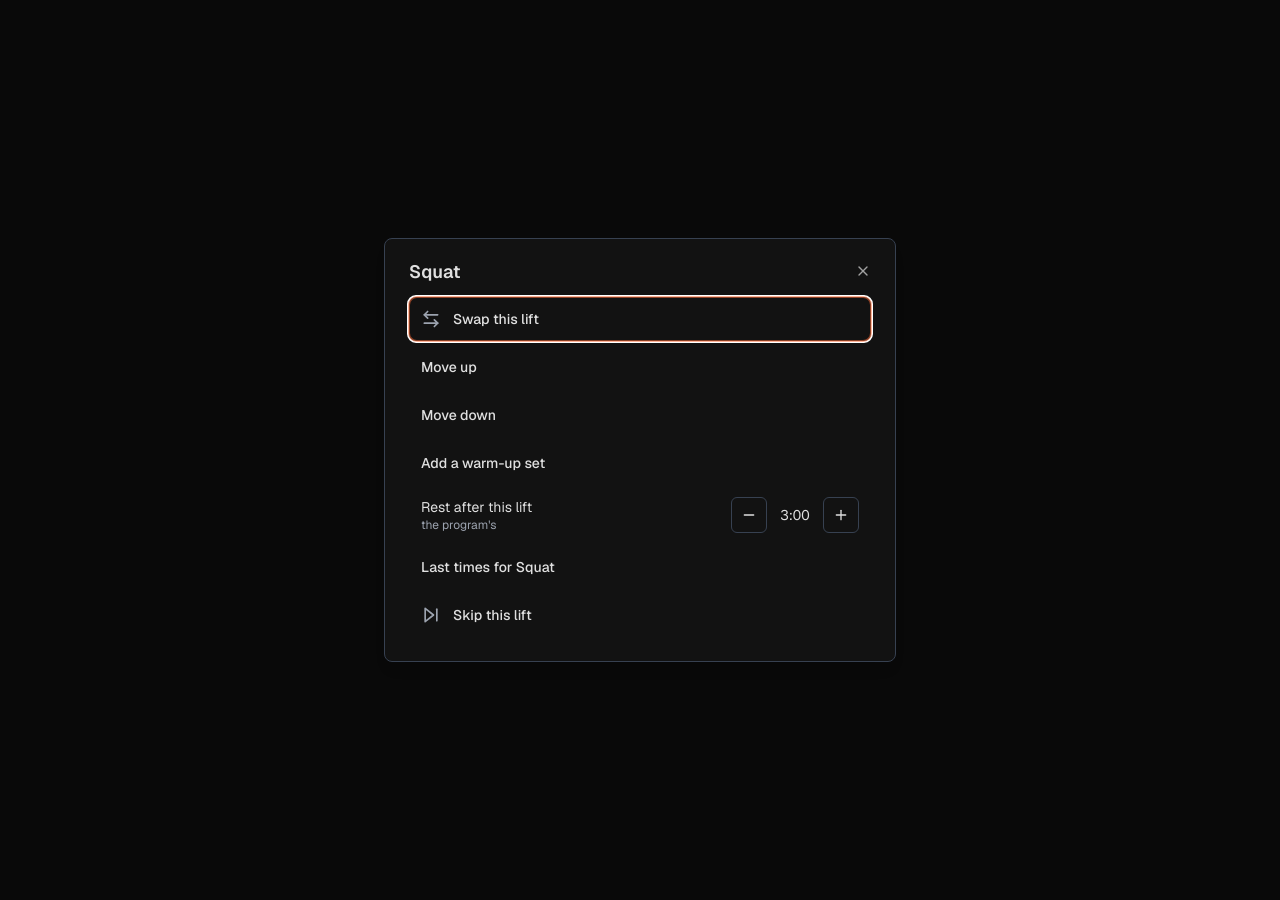
the rest row › two quick taps read 3:30, not 3:15
The width and height of the screenshot is (1280, 900).
What coordinates should you click on to do the following:
click the button with test id "rest-more"
I would click on:
 (841, 515)
Its box is [823,497,859,533].
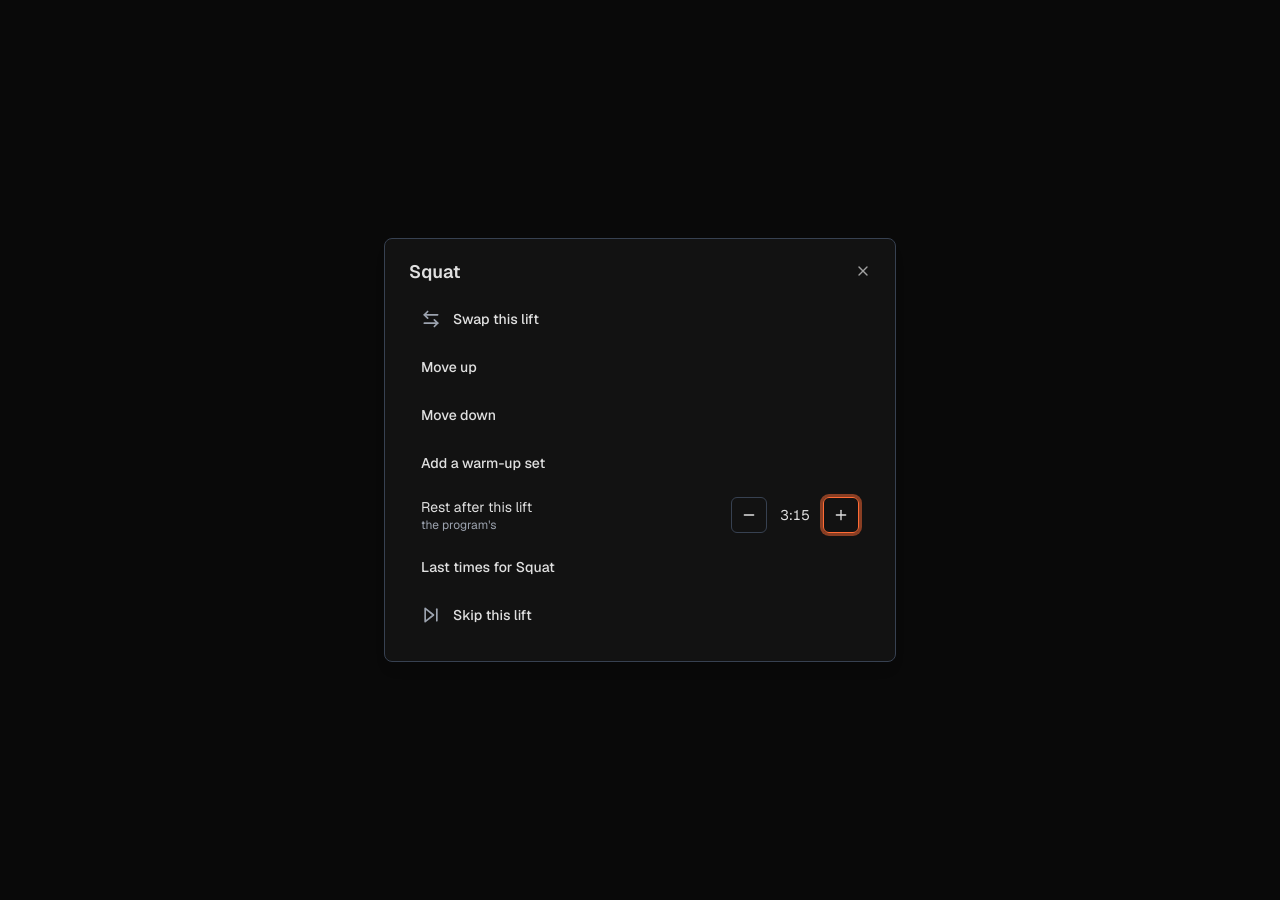
What coordinates should you click on to do the following:
click the button with test id "rest-more"
I would click on:
 (841, 515)
Its box is [823,497,859,533].
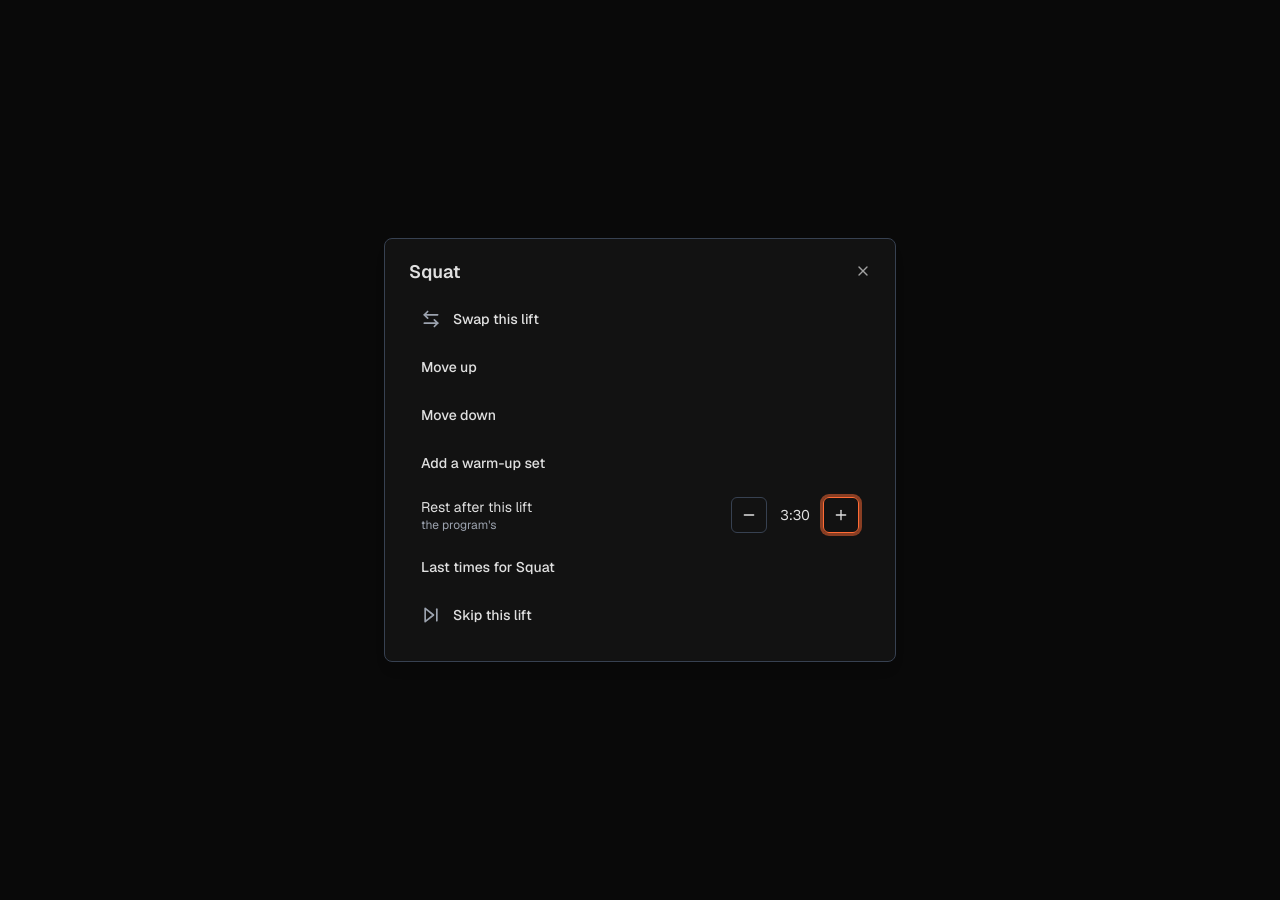
Now the text with test id "rest-target" reads "3:30", box [780,506,810,524]
